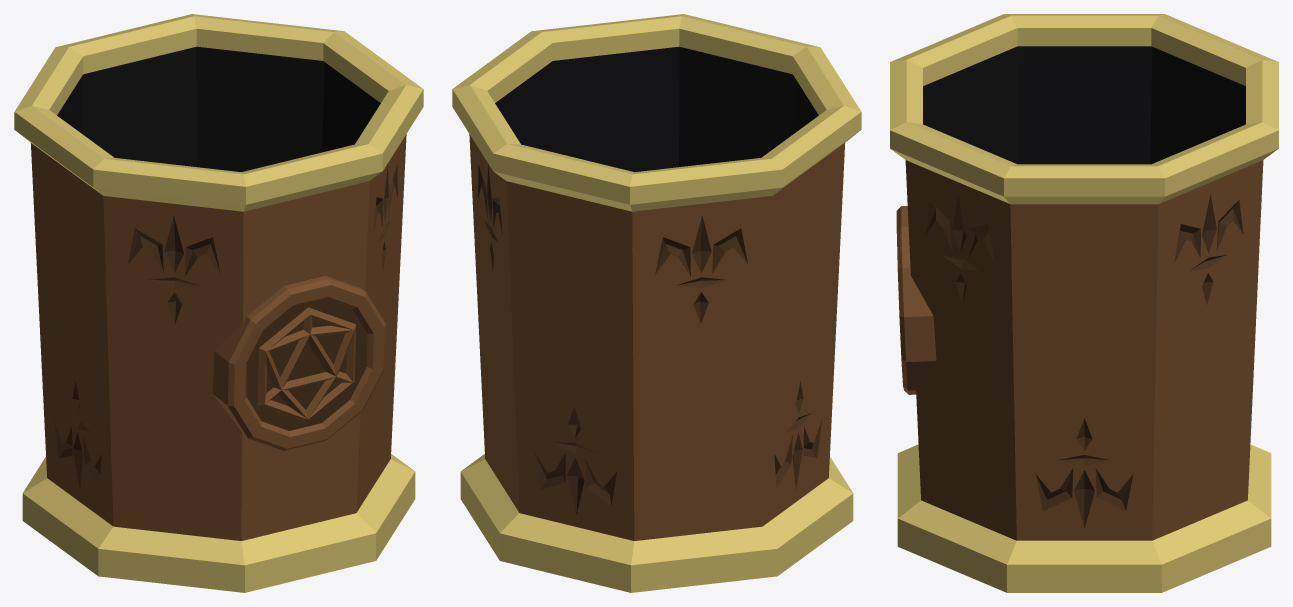
The model's file is leather-dice-cup-f99a7e.glb.
3 views of the same model, side by side, from view 1: azimuth 30°, elevation 25°; view 2: azimuth 150°, elevation 25°; view 3: azimuth 270°, elevation 25° (orthographic). The views are drawn at different scales.
Parts seen in each view (by area): view 1: cup, bands; view 2: cup, bands; view 3: cup, bands.
Boxes of the visible parts, x1,y1,x2,y2 form: cup: (31,46,406,540); bands: (14,14,423,592); cup: (469,46,844,540); bands: (452,14,861,592); cup: (896,46,1263,540); bands: (890,14,1278,592).
Size of the model in its own units: 0.075 by 0.09 by 0.075.
